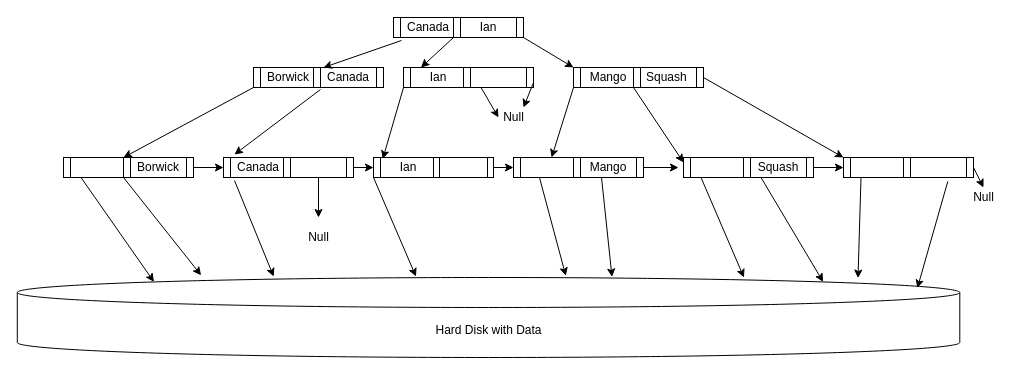
Image size: 1021x375. Some labels were removed from this diagram. The box of each missing label's shape, as (x1, y1, x2, y2) in pixels:
April: (62, 156, 134, 178)
Kyoto: (512, 156, 584, 178)
Owl: (682, 156, 754, 178)
Tyson: (842, 156, 914, 178)
UC: (902, 156, 974, 178)
